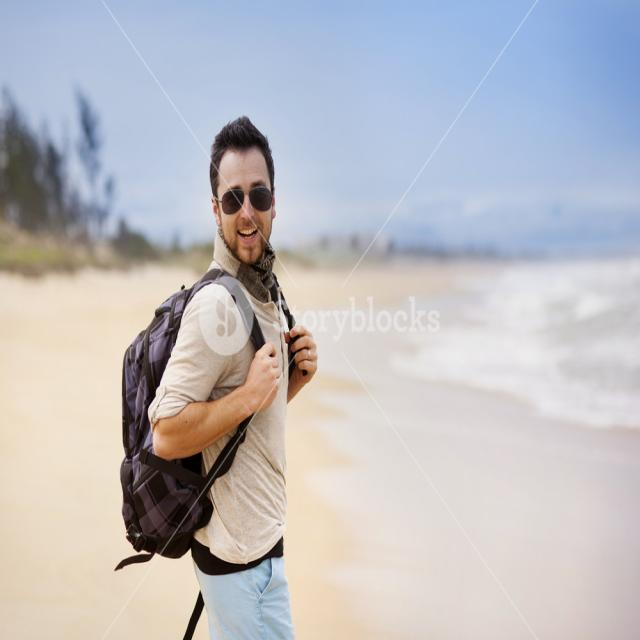backpack: (106, 267, 235, 640)
